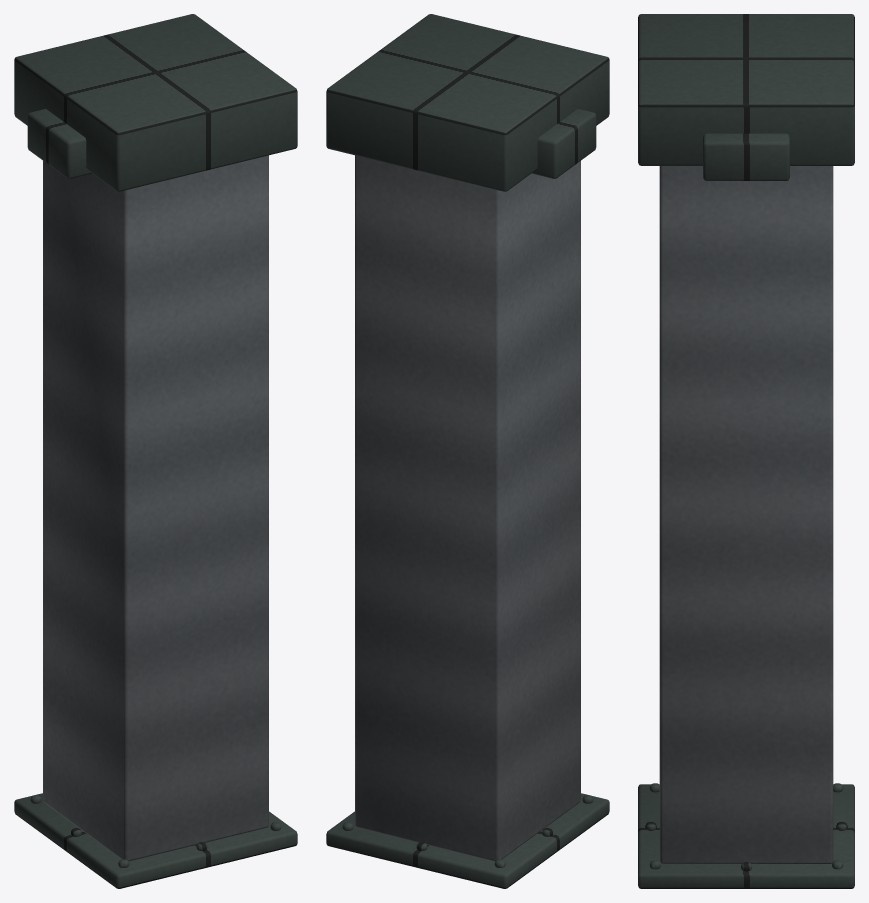
The model's file is WK_STRUCT_COLUMN_A_01.glb.
The picture shows the model from 3 angles, left to right: view 1: azimuth 30°, elevation 25°; view 2: azimuth 150°, elevation 25°; view 3: azimuth 270°, elevation 25°; orthographic projection. The views are drawn at different scales.
Visible parts, largest first — view 1: WK_STRUCT_COLUMN_A_01; view 2: WK_STRUCT_COLUMN_A_01; view 3: WK_STRUCT_COLUMN_A_01.
Part boxes in pixels (x1,y1,x2,y2): WK_STRUCT_COLUMN_A_01: (14, 14, 297, 888); WK_STRUCT_COLUMN_A_01: (326, 14, 609, 888); WK_STRUCT_COLUMN_A_01: (638, 14, 854, 888).
Bounding box in the file's own units: 1.2 × 4 × 1.
2 materials, 2 textured.
